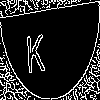K: (25, 24, 46, 74)
